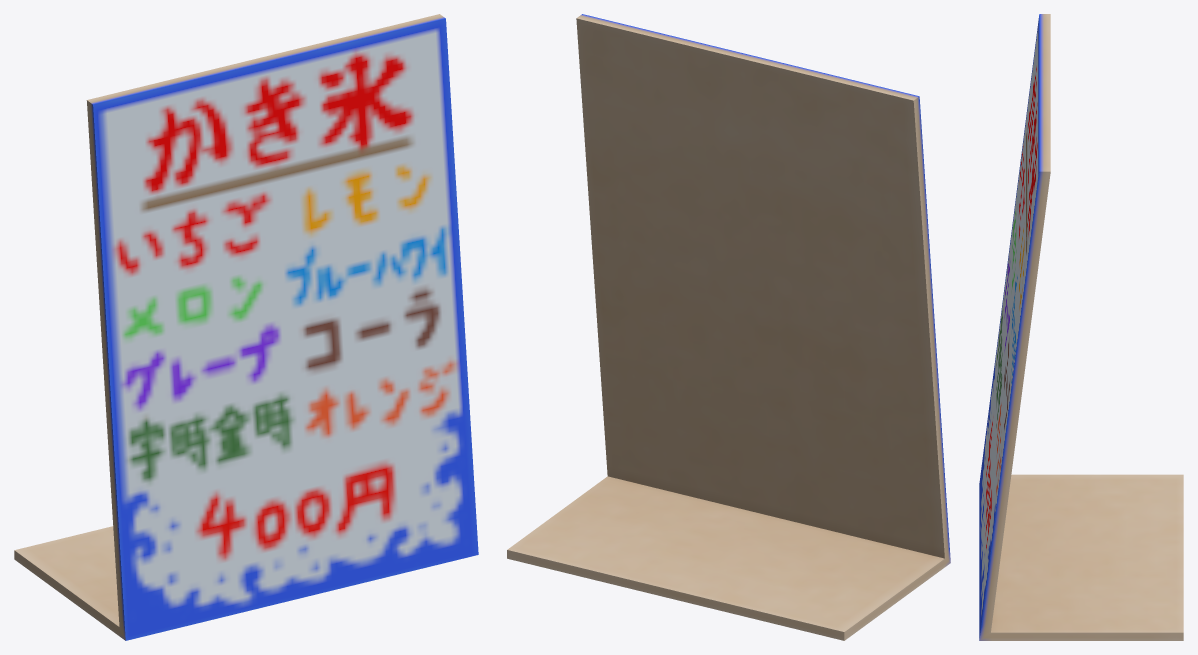
Rendered from jsf_Flyer_ShavedIce_03.fbx.
The picture shows the model from 3 angles, left to right: view 1: azimuth 30°, elevation 25°; view 2: azimuth 150°, elevation 25°; view 3: azimuth 270°, elevation 25°; orthographic projection. The views are drawn at different scales.
Parts seen in each view (by area): view 1: jsf_Flyer_ShavedIce_03; view 2: jsf_Flyer_ShavedIce_03; view 3: jsf_Flyer_ShavedIce_03.
Part boxes in pixels (left/top/right/bottom): jsf_Flyer_ShavedIce_03: left=14, top=14, right=478, bottom=640; jsf_Flyer_ShavedIce_03: left=507, top=14, right=950, bottom=640; jsf_Flyer_ShavedIce_03: left=979, top=14, right=1183, bottom=640.
Bounding box in the file's own units: 29.64 × 41.11 × 16.2.
